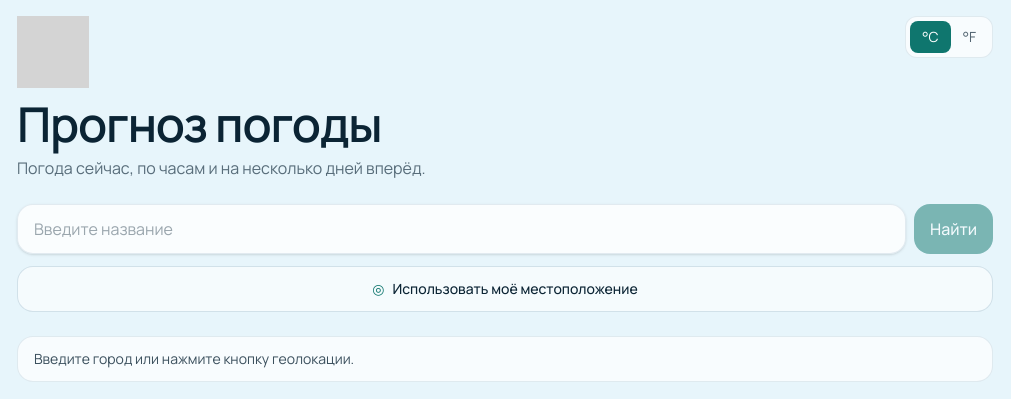
WeatherApp scenarios › shows message when geolocation is denied
The image size is (1011, 399).
Step 1. Click the button "◎ Использовать моё местоположение" → [505, 289], box [17,266,993,312]
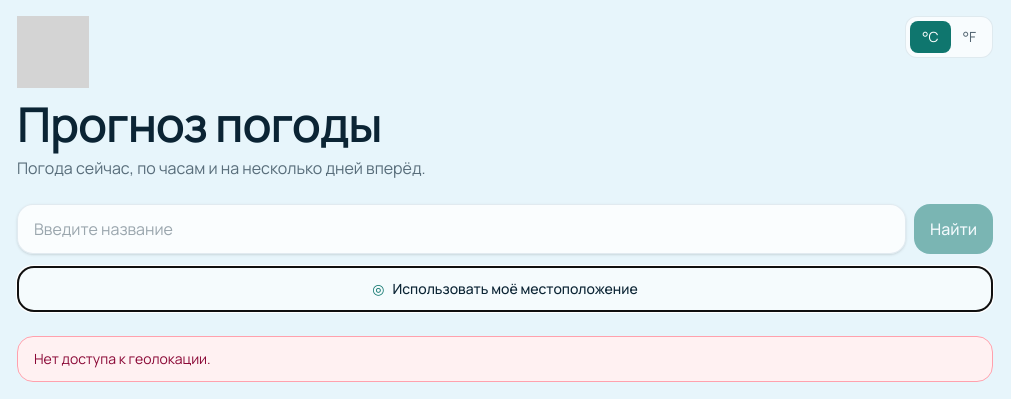
Now the text "Нет доступа к геолокации." is shown, box [17,336,993,382]
